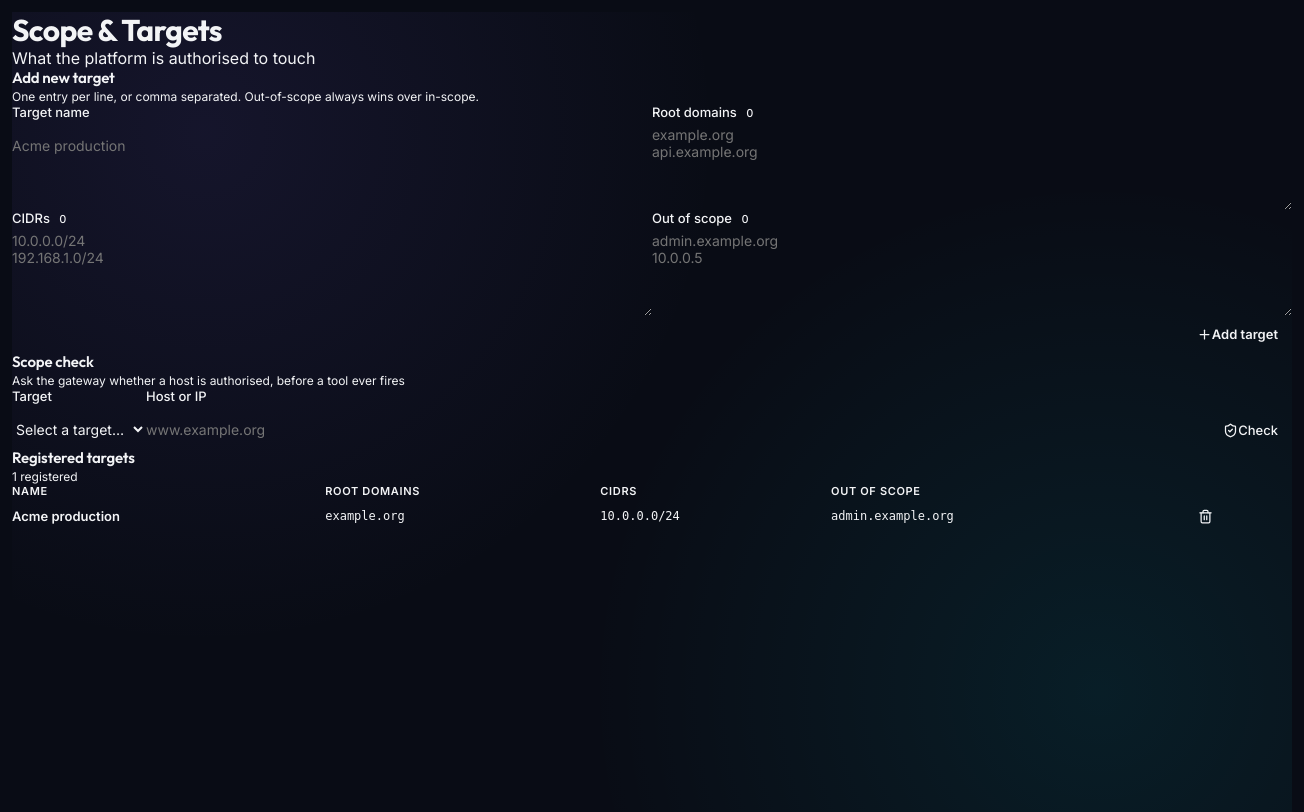
Test: adding a new target › flags malformed entries while typing
Expected: the heading "Add new target" is shown, [12,68,115,87]
Type "not a domain!!" into the text box labelled "Root domains 0" at (972, 168), box [652,126,1292,210]
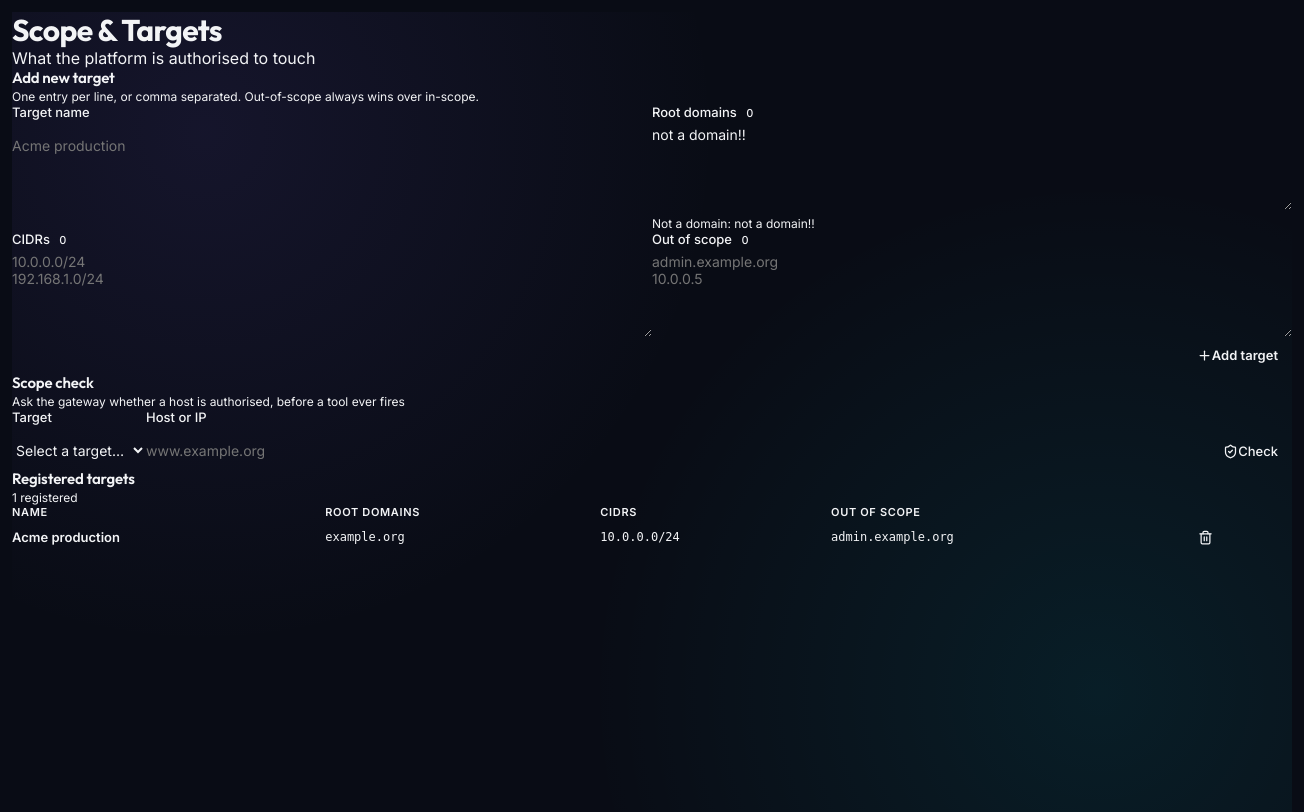
Expected: the text "Not a domain: not a domain!!" is shown, [652,216,815,231]
